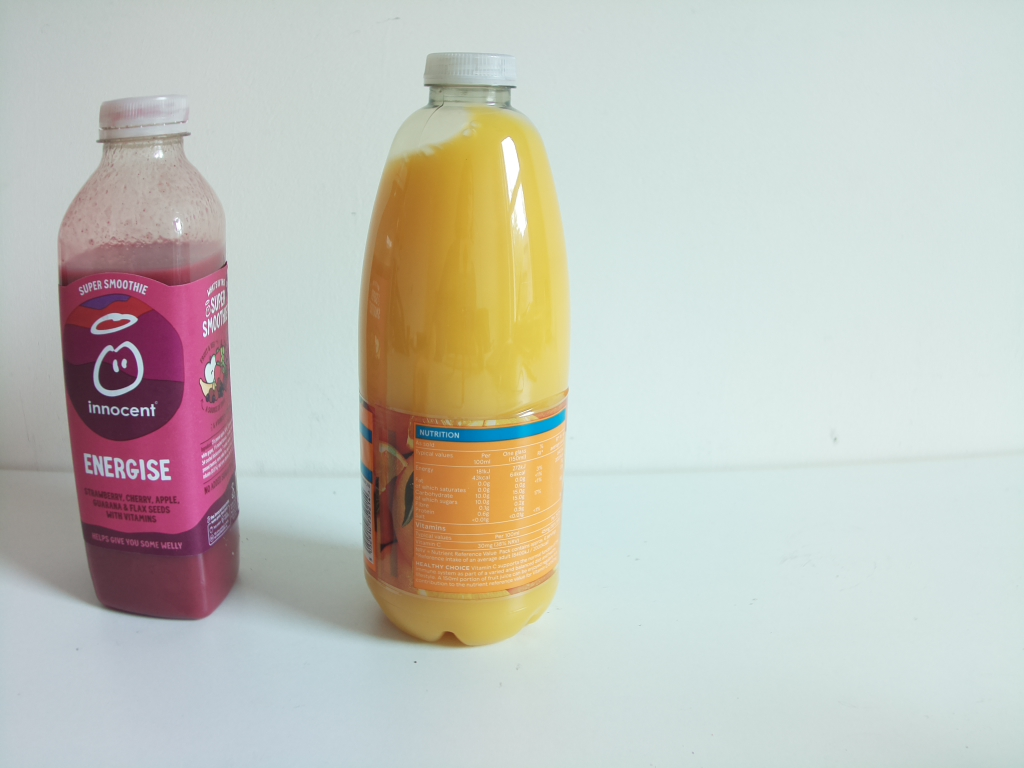juice: (354, 45, 584, 647), (56, 94, 256, 624)
